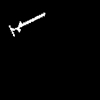double_crochet: (9, 13, 44, 35)
